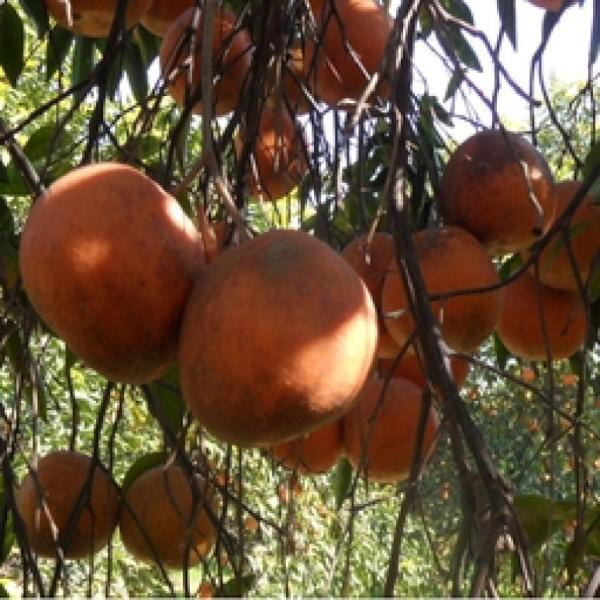Canker: (174, 220, 381, 449), (9, 155, 217, 380), (433, 128, 558, 256), (7, 445, 128, 562), (116, 449, 223, 569), (343, 369, 445, 481)
Sana: (401, 224, 497, 358), (304, 0, 409, 122), (334, 226, 426, 364), (495, 263, 591, 373), (161, 7, 253, 116), (228, 100, 318, 207), (514, 176, 600, 284), (262, 411, 348, 477), (261, 32, 323, 114), (44, 0, 147, 40), (134, 0, 200, 45)
